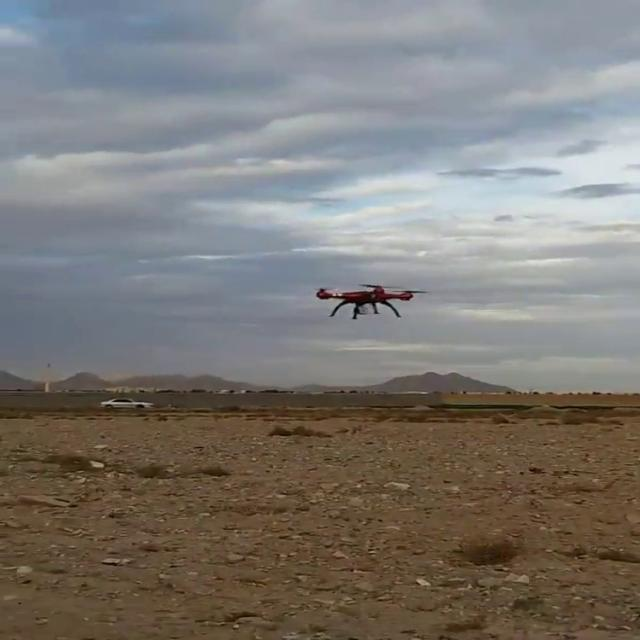drone: (311, 280, 430, 322)
